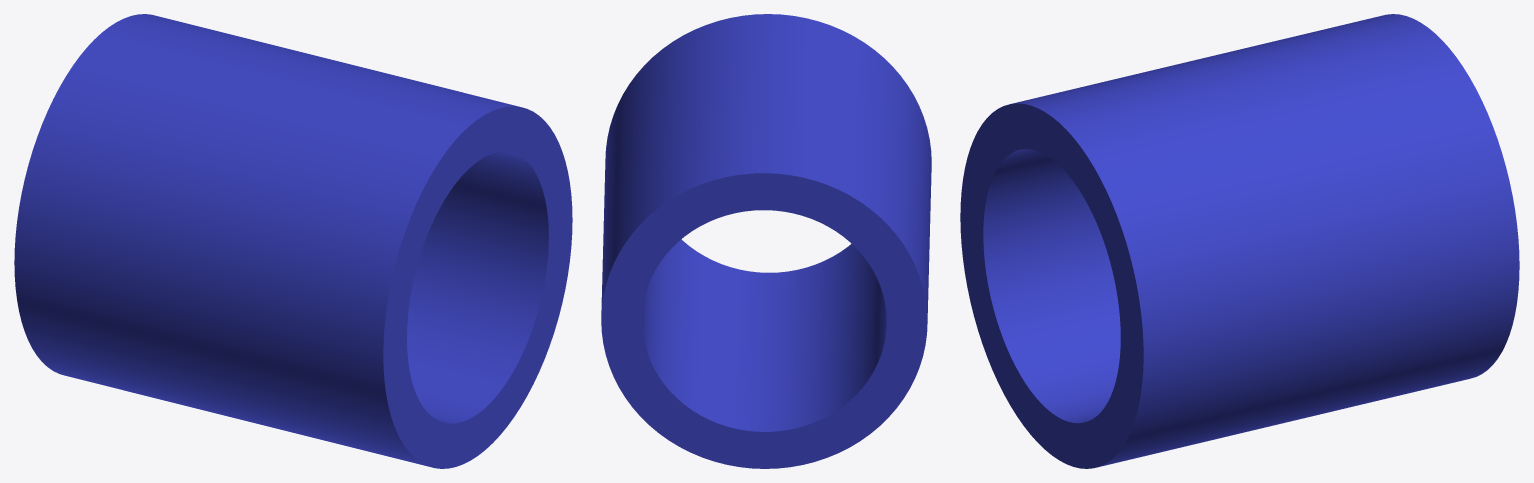
Rendered from head2.fbx.
3 views of the same model, side by side, from view 1: azimuth 30°, elevation 25°; view 2: azimuth 150°, elevation 25°; view 3: azimuth 270°, elevation 25° (orthographic). The views are drawn at different scales.
Parts seen in each view (by area): view 1: root; view 2: root; view 3: root.
Part boxes in pixels (<box>): root: <box>14,14,572,468</box>; root: <box>601,14,931,468</box>; root: <box>960,14,1519,468</box>.
Bounding box in the file's own units: 0.3729 × 0.2594 × 0.3881.
